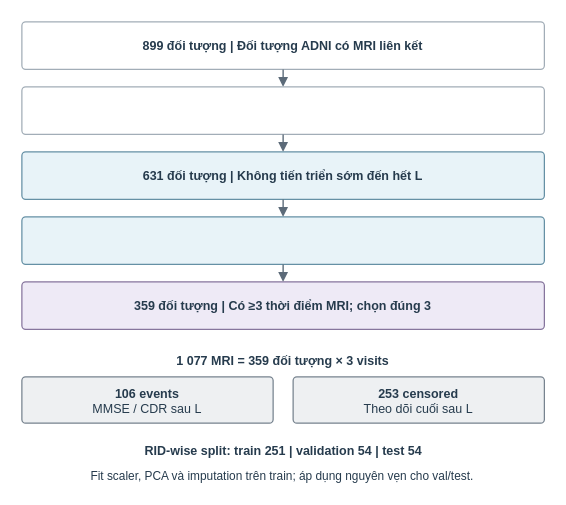
Some shapes in this 566 by 505 pixel diagram are drawn without their labels. Here are the shapes that lost their labels. From the top down, the centre of each, then its label:
At point (282, 110): "843 đối tượng | MCI tại baseline".
At point (282, 240): "536 đối tượng | Có theo dõi hợp lệ sau L".
